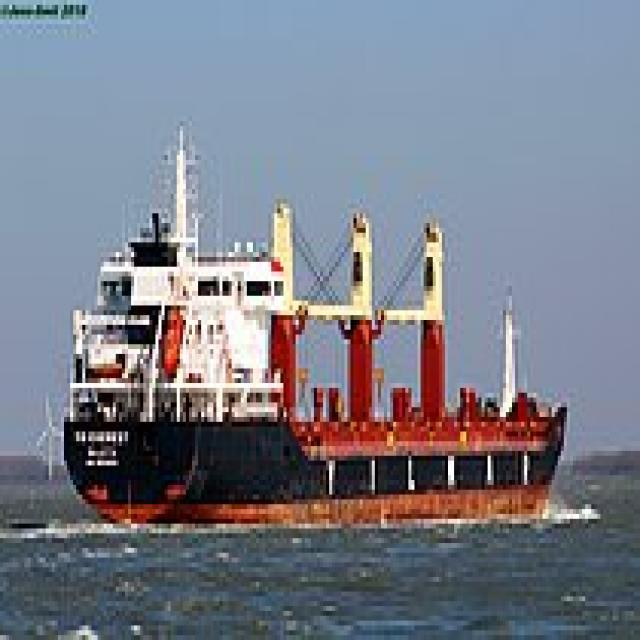Ship: (50, 93, 577, 549)
